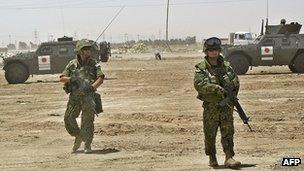Japanese Flag: (34, 55, 53, 65), (260, 45, 275, 53)
